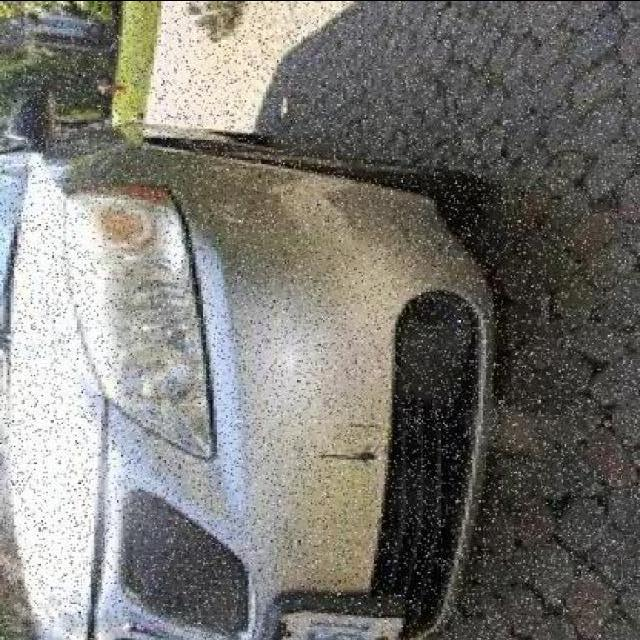front-bumper-dent: (262, 219, 500, 640)
